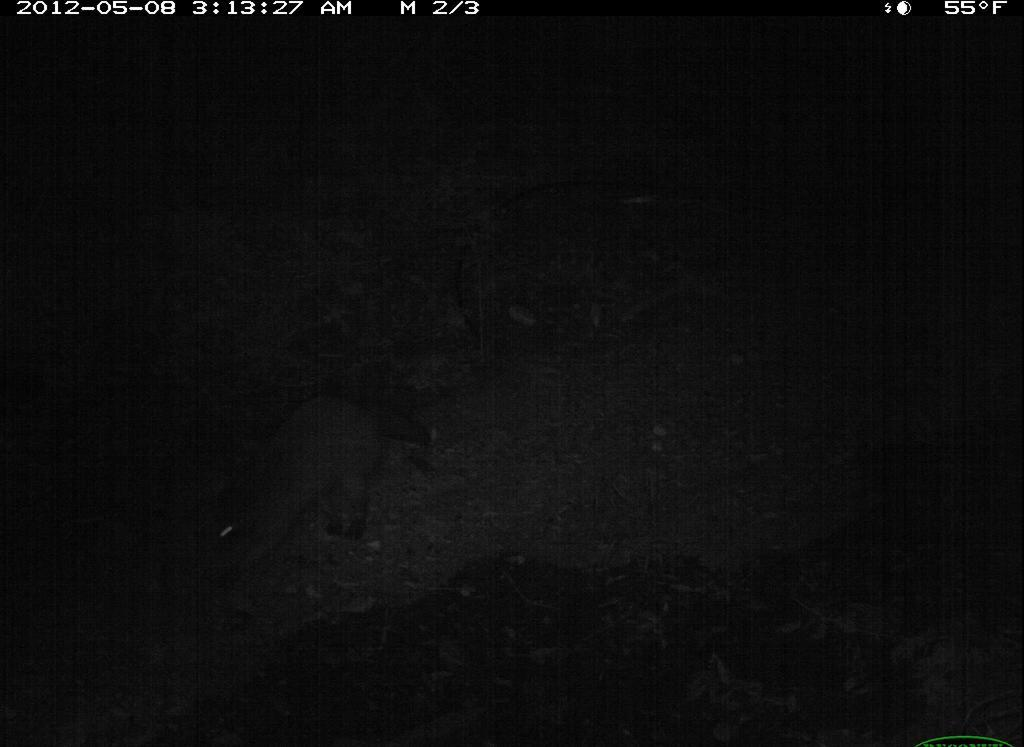raccoon: (182, 383, 413, 610)
